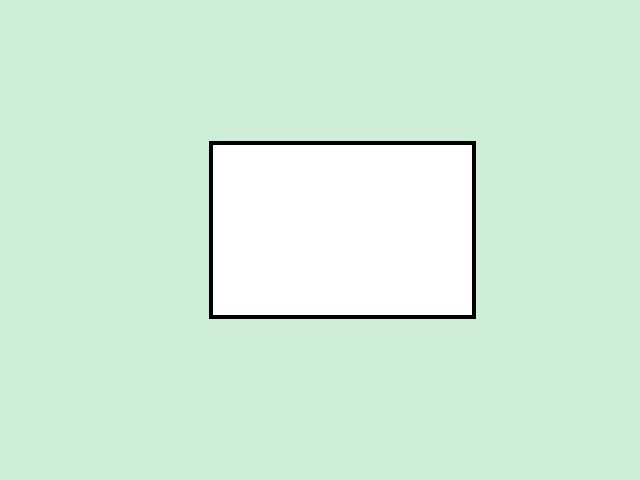clock: (209, 141, 475, 318)
